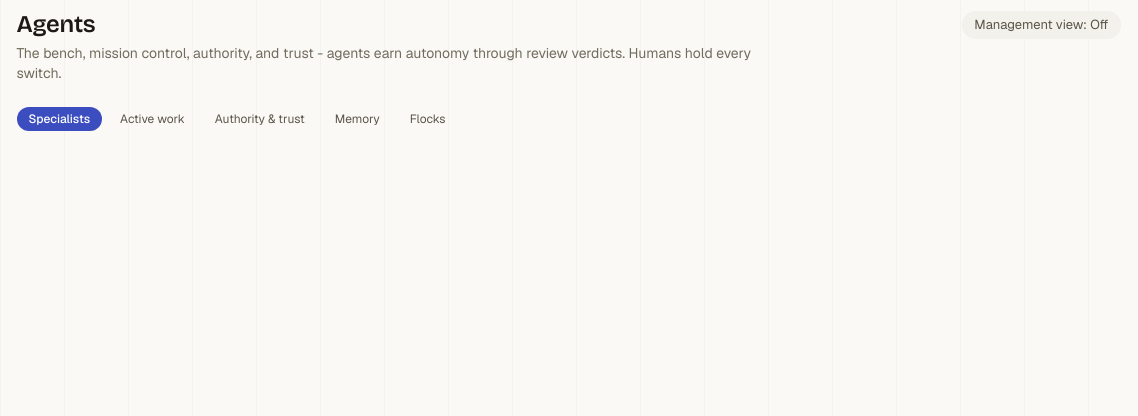
it: Mission control inbox › closes the selected inbox and does not carry it into another page view
This screenshot has width=1138, height=416.
Click the button "Active work": (152, 119) x1=108 y1=107 x2=197 y2=131
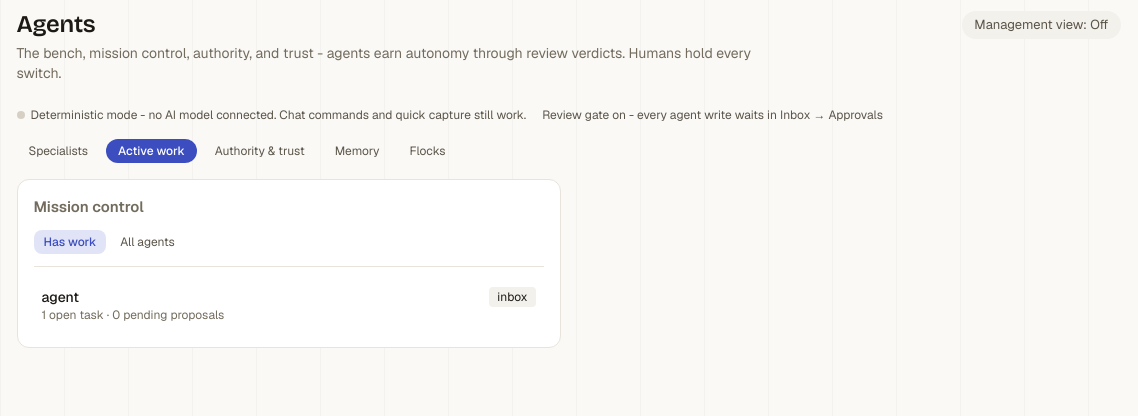
Click the button with aria-label "Open inbox for agent": (512, 297) x1=489 y1=287 x2=536 y2=307
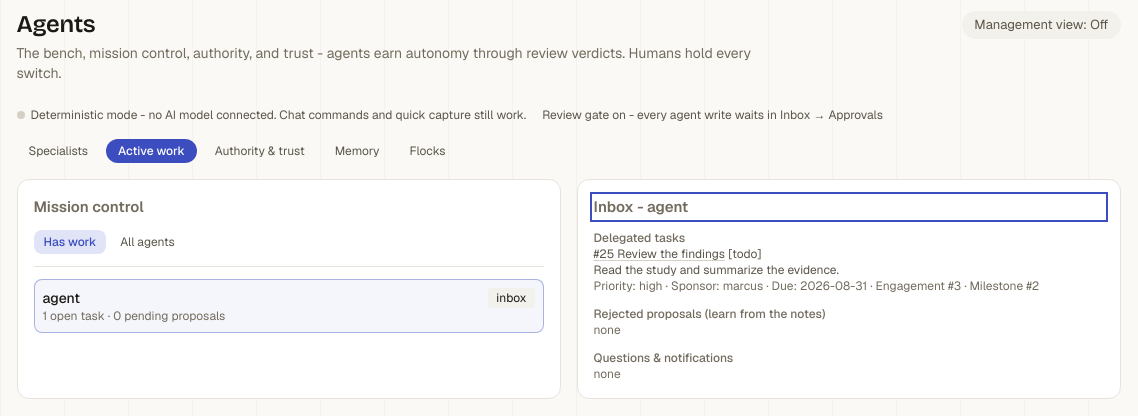
Expected: the heading "Inbox - agent" is shown, x1=594 y1=197 x2=688 y2=216
Click the button with aria-label "Close inbox for agent": (511, 298) x1=488 y1=288 x2=534 y2=308
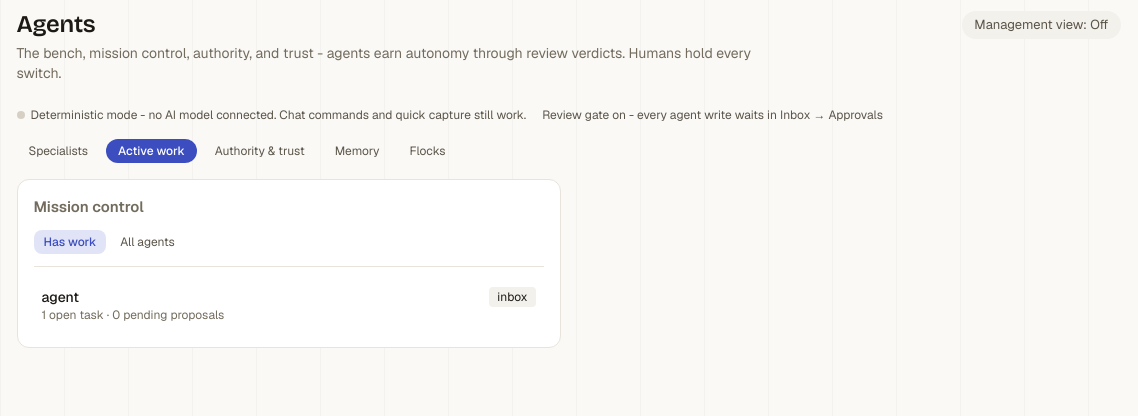
Expected: the heading "Inbox - agent" is gone
Click the button with aria-label "Open inbox for agent": (512, 297) x1=489 y1=287 x2=536 y2=307
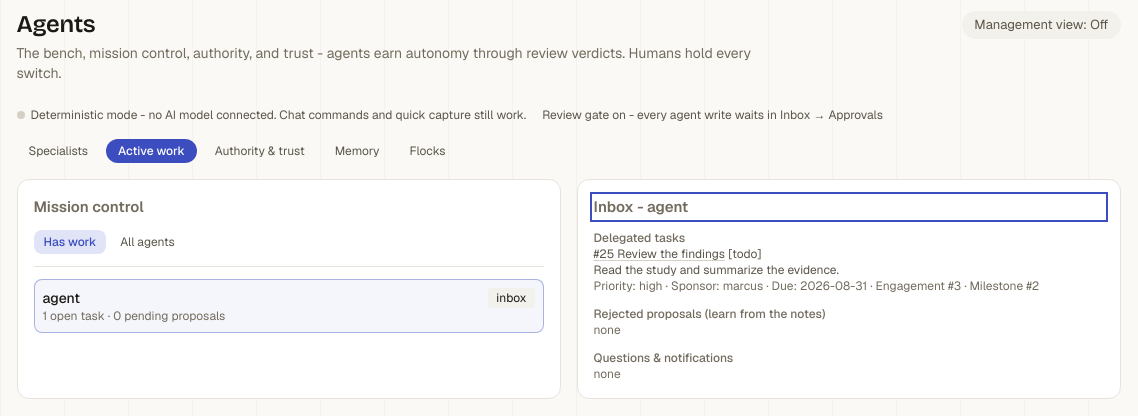
Expected: the heading "Inbox - agent" is shown, x1=594 y1=197 x2=688 y2=216
Click the button "Specialists": (58, 151) x1=16 y1=139 x2=100 y2=163
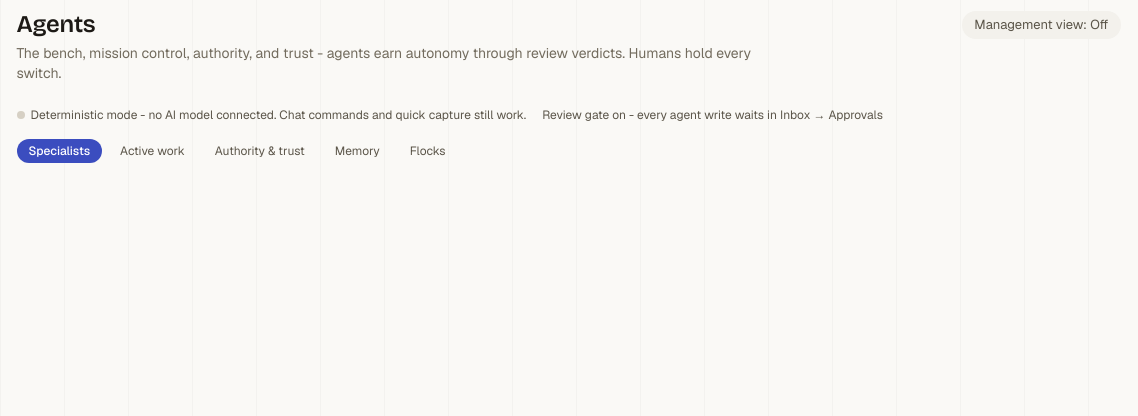
Expected: the heading "Inbox - agent" is gone
